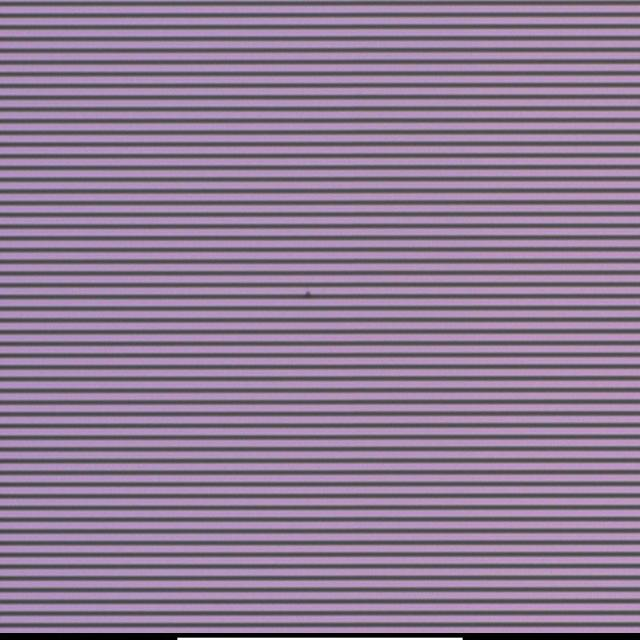03_intrusion: (301, 286, 311, 304)
